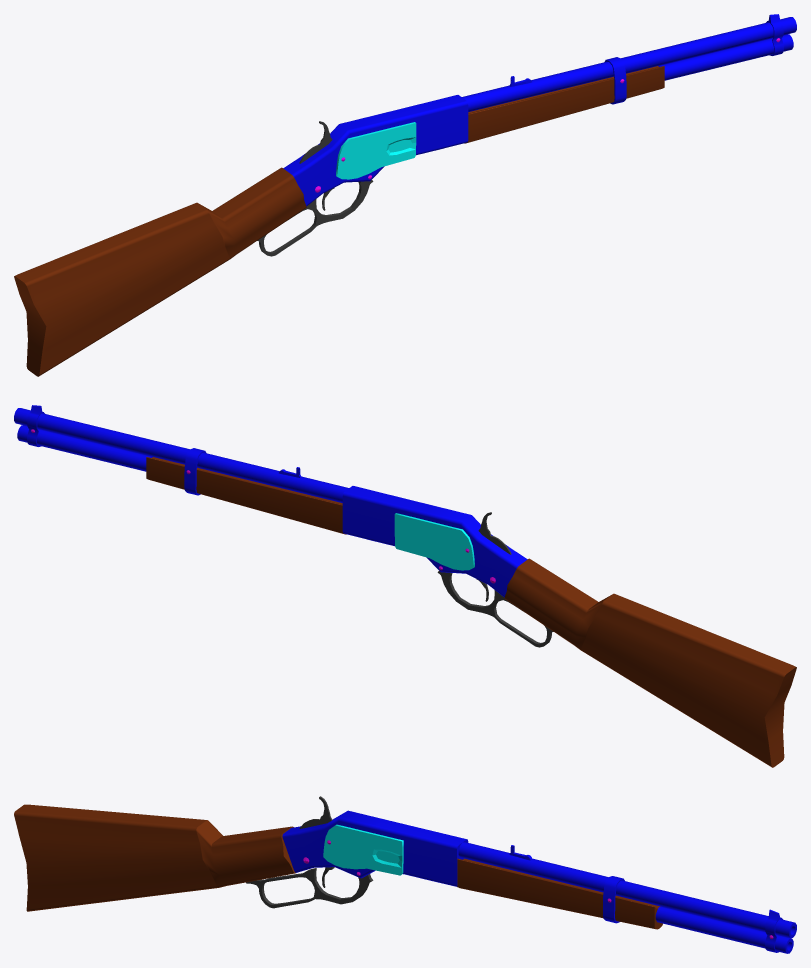
The picture shows the model from 3 angles, top to bottom: view 1: azimuth 30°, elevation 25°; view 2: azimuth 150°, elevation 25°; view 3: azimuth 330°, elevation 25°; orthographic projection.
Parts seen in each view (by area): view 1: Winchester_rifle1 (×4); view 2: Winchester_rifle1 (×4); view 3: Winchester_rifle1 (×4).
Boxes of the visible parts, bbox=[...] form: Winchester_rifle1 (×4): bbox=[14, 14, 796, 376]; Winchester_rifle1 (×4): bbox=[14, 405, 796, 767]; Winchester_rifle1 (×4): bbox=[14, 796, 796, 953].
Bounding box in the file's own units: 19.75 × 4.44 × 0.879.
